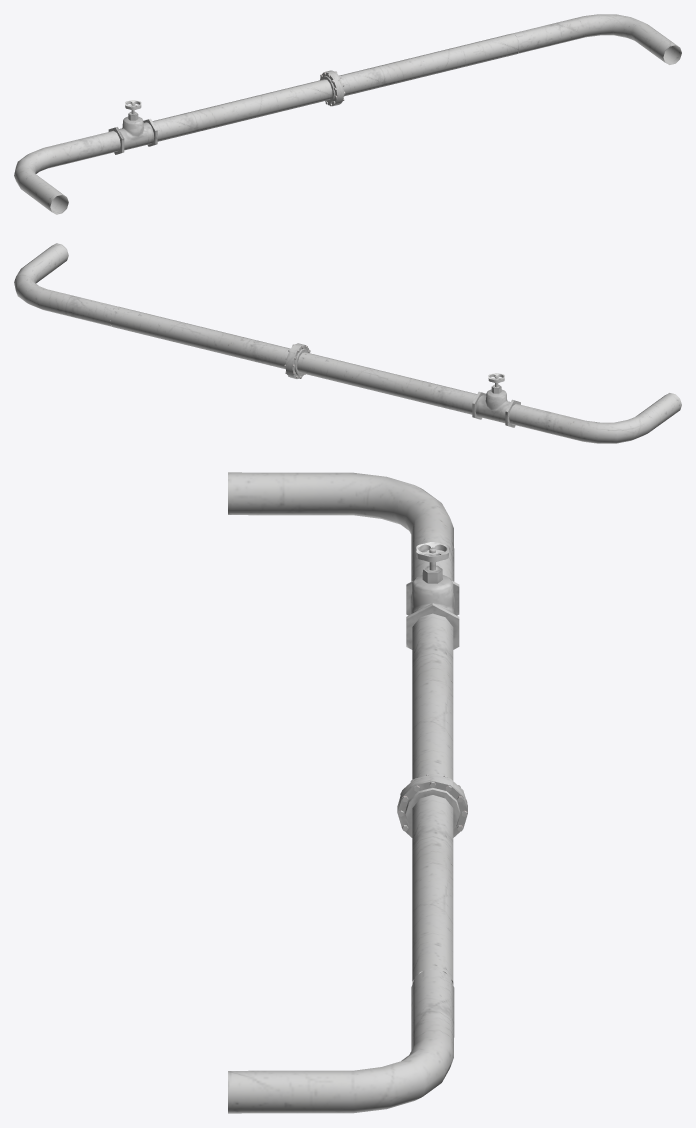
Rendered from SM_HeaterTubes2.fbx.
3 views of the same model, one above another, from view 1: azimuth 30°, elevation 25°; view 2: azimuth 150°, elevation 25°; view 3: azimuth 270°, elevation 25° (orthographic). The views are drawn at different scales.
Parts seen in each view (by area): view 1: SM_HeaterTubes2_LOD0; view 2: SM_HeaterTubes2_LOD0; view 3: SM_HeaterTubes2_LOD0.
Part boxes in pixels (x1,y1,x2,y2): SM_HeaterTubes2_LOD0: [14, 14, 681, 214]; SM_HeaterTubes2_LOD0: [14, 243, 681, 443]; SM_HeaterTubes2_LOD0: [228, 472, 467, 1113].
Bounding box in the file's own units: 356 × 58.53 × 26.51.
